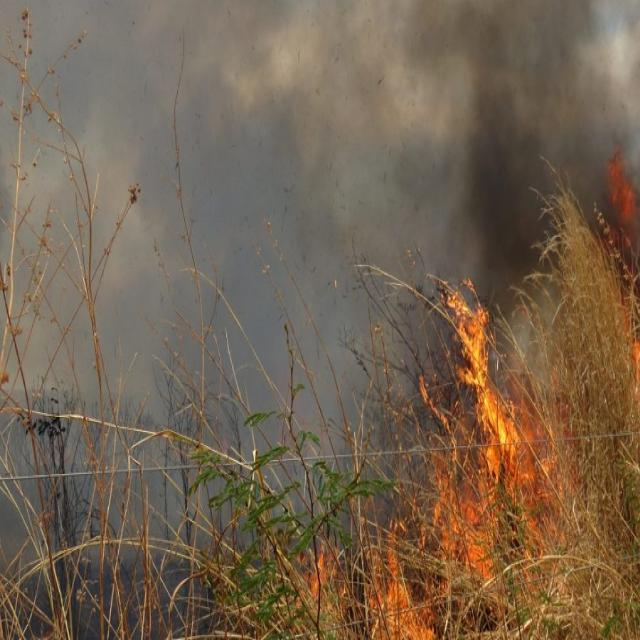fire: (449, 292, 521, 482)
